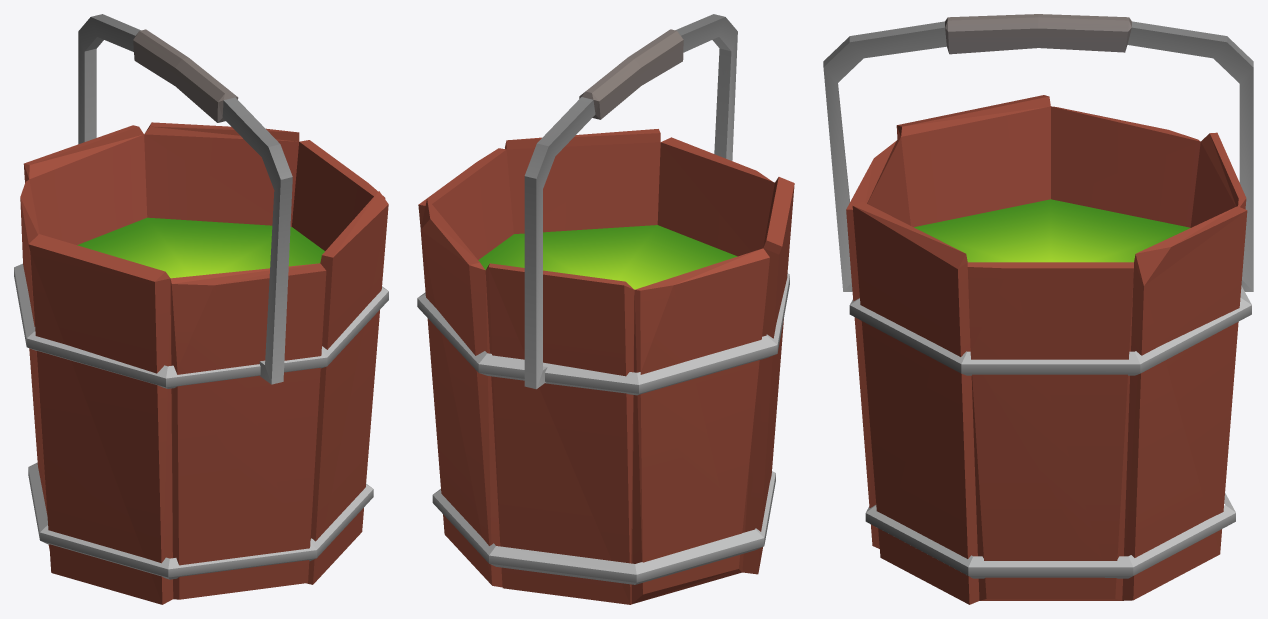
File: waterbucket1.glb
The picture shows the model from 3 angles, left to right: view 1: azimuth 30°, elevation 25°; view 2: azimuth 150°, elevation 25°; view 3: azimuth 270°, elevation 25°; orthographic projection. The views are drawn at different scales.
Visible parts, largest first — view 1: WaterBucket1; view 2: WaterBucket1; view 3: WaterBucket1.
Boxes of the visible parts, x1=… form: WaterBucket1: x1=14, y1=14, x2=388, y2=604; WaterBucket1: x1=417, y1=14, x2=794, y2=604; WaterBucket1: x1=823, y1=14, x2=1253, y2=604.
Size of the model in its own units: 0.4053 by 0.5806 by 0.4397.
Materials: 1 (1 with a texture image).
